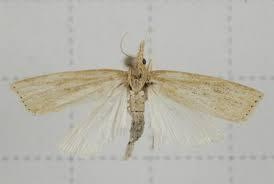Insects: (8, 28, 266, 164)
